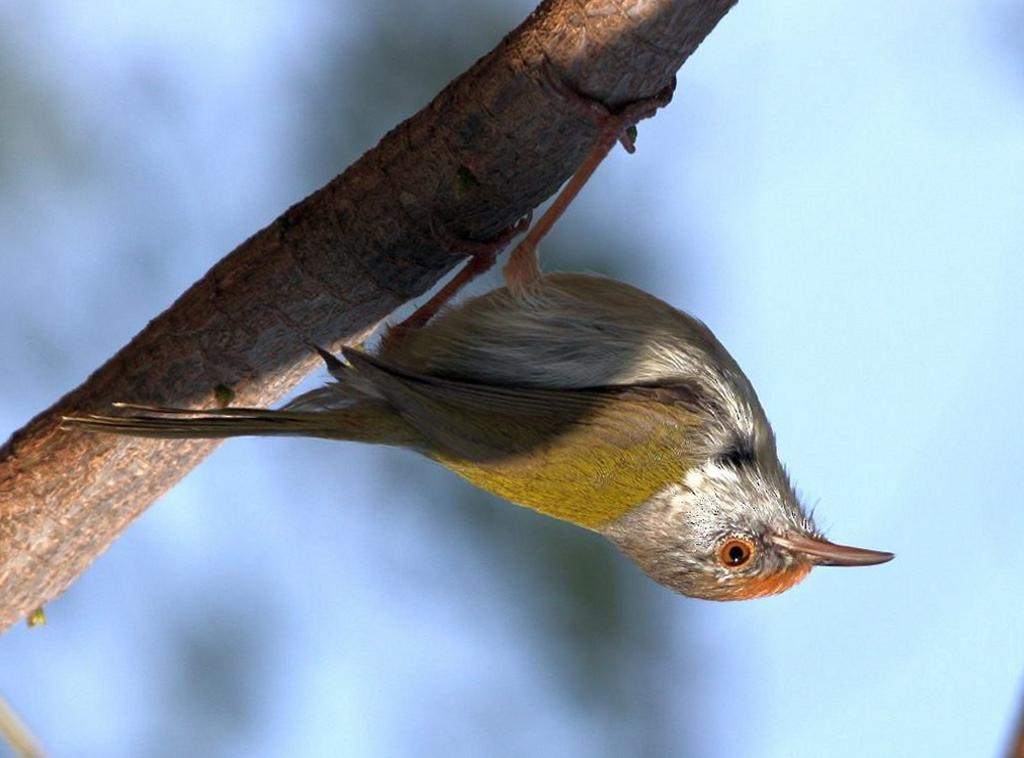tailorbird: (124, 172, 902, 616)
